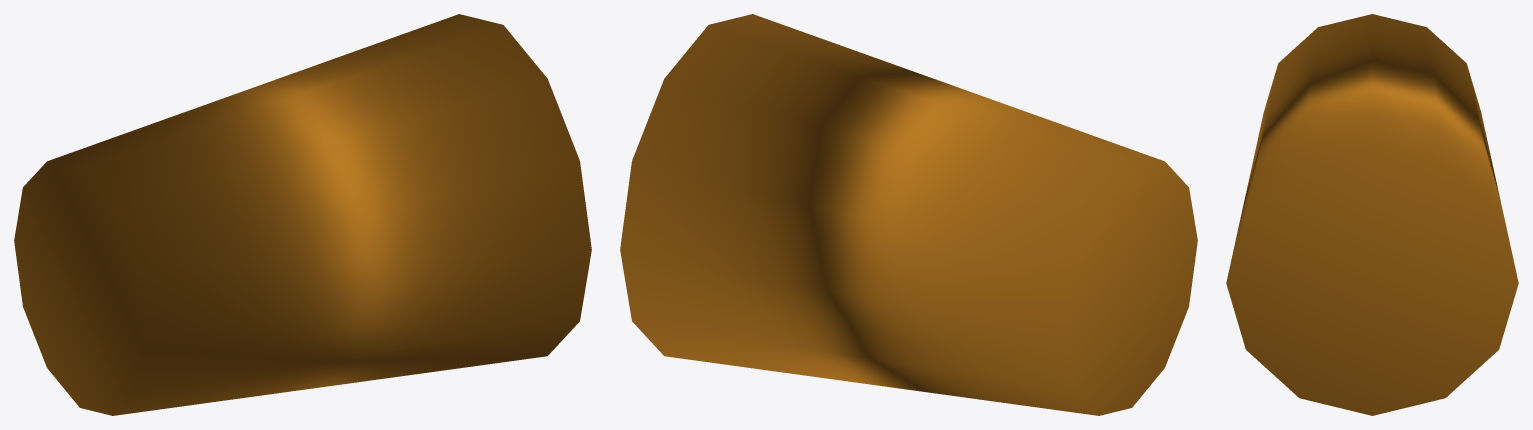
File: Plunger_End.fbx
The picture shows the model from 3 angles, left to right: view 1: azimuth 30°, elevation 25°; view 2: azimuth 150°, elevation 25°; view 3: azimuth 270°, elevation 25°; orthographic projection. The views are drawn at different scales.
Visible parts, largest first — view 1: Plunger_End; view 2: Plunger_End; view 3: Plunger_End.
Boxes of the visible parts, x1=… form: Plunger_End: x1=14, y1=14, x2=591, y2=415; Plunger_End: x1=620, y1=14, x2=1197, y2=415; Plunger_End: x1=1226, y1=14, x2=1518, y2=415.
Bounding box in the file's own units: 1.66 × 1.2 × 1.2.
